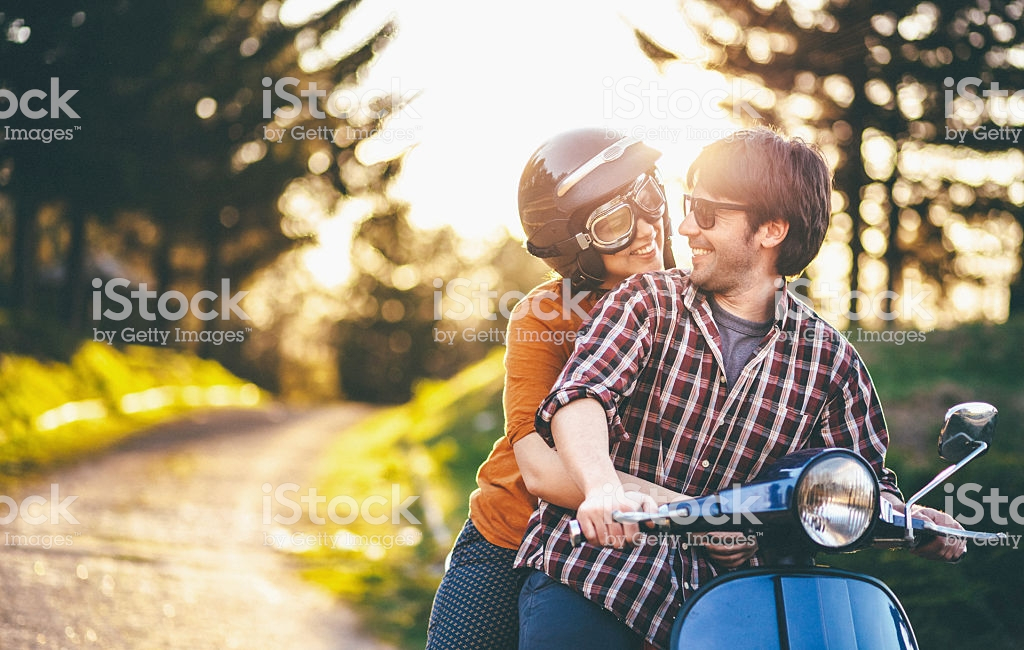helmet: (501, 122, 662, 236)
